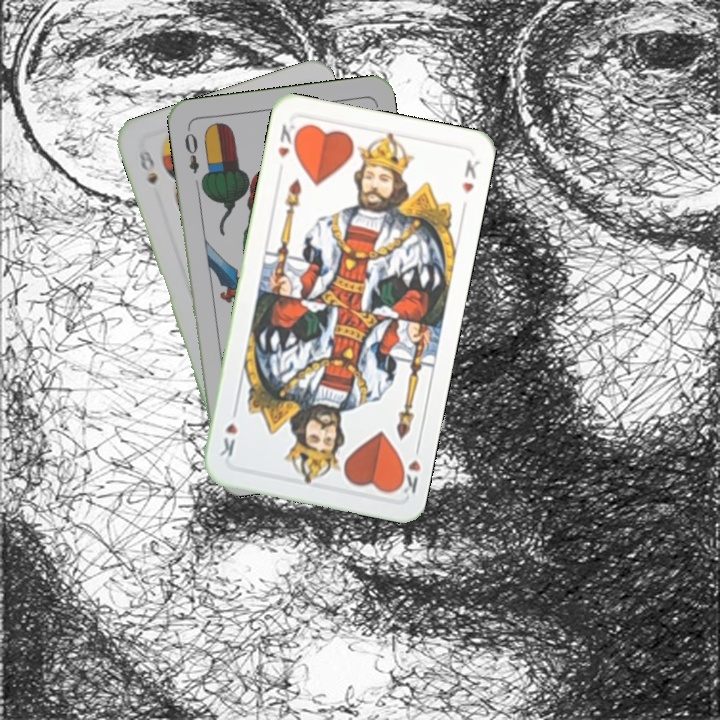EO: (180, 124, 202, 176)
HK: (392, 439, 423, 498), (273, 120, 297, 160)
S8: (134, 147, 160, 188)
